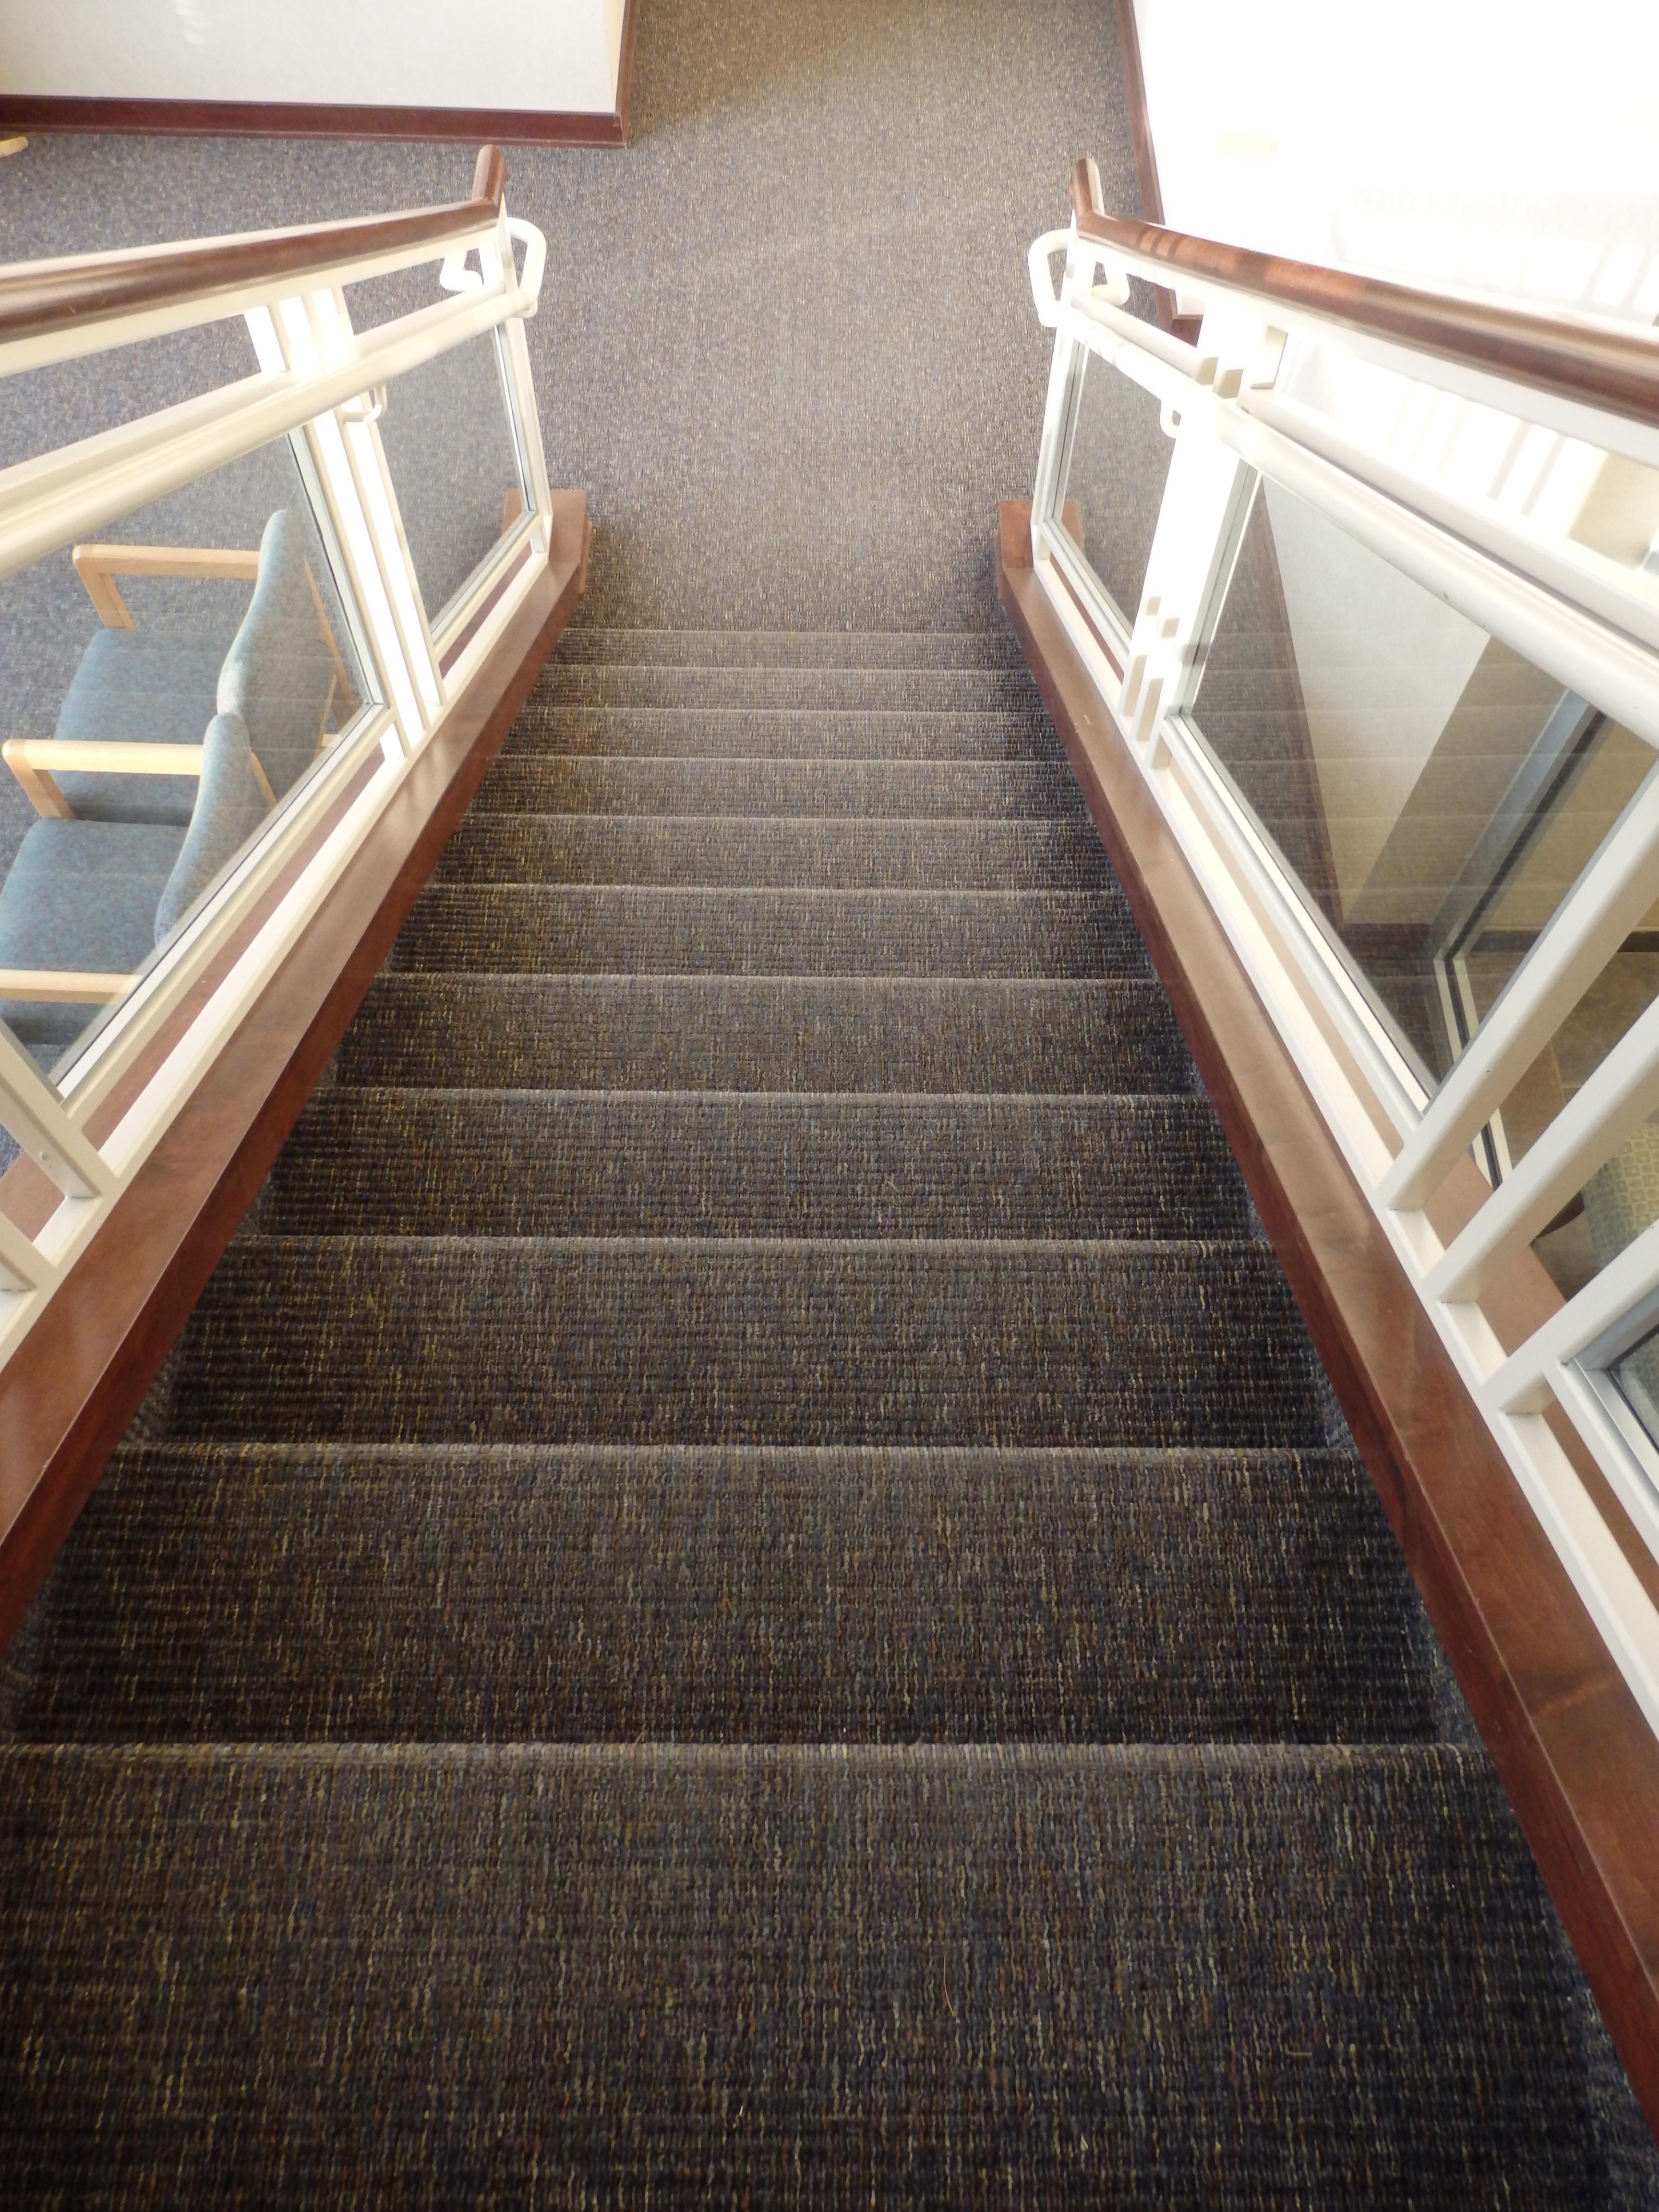stairs_down: (153, 557, 1389, 1825)
